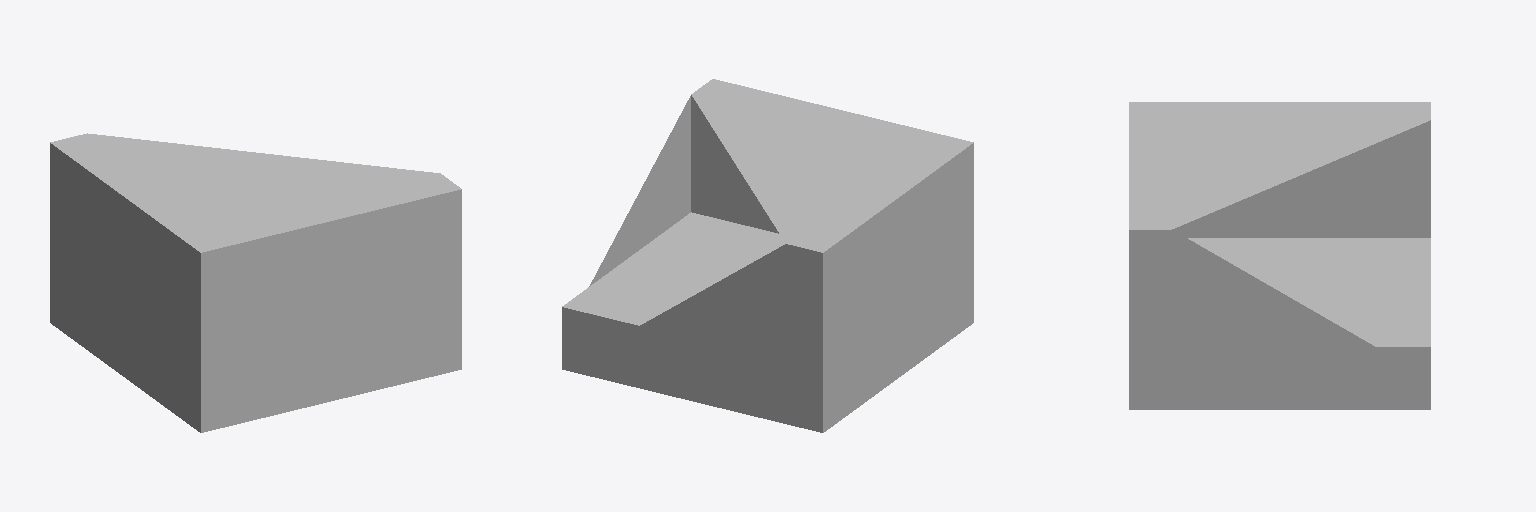
File: roadTile_125.obj
3 renders of one model, left to right at view 1: azimuth 30°, elevation 25°; view 2: azimuth 150°, elevation 25°; view 3: azimuth 270°, elevation 25°, orthographic.
Parts seen in each view (by area): view 1: Mesh1 Group1 Model; view 2: Mesh1 Group1 Model; view 3: Mesh1 Group1 Model.
Boxes of the visible parts, x1,y1,x2,y2 form: Mesh1 Group1 Model: [50, 133, 461, 432]; Mesh1 Group1 Model: [562, 79, 973, 432]; Mesh1 Group1 Model: [1129, 102, 1430, 409].
Bounding box in the file's own units: 2.62 × 1.73 × 2.62.